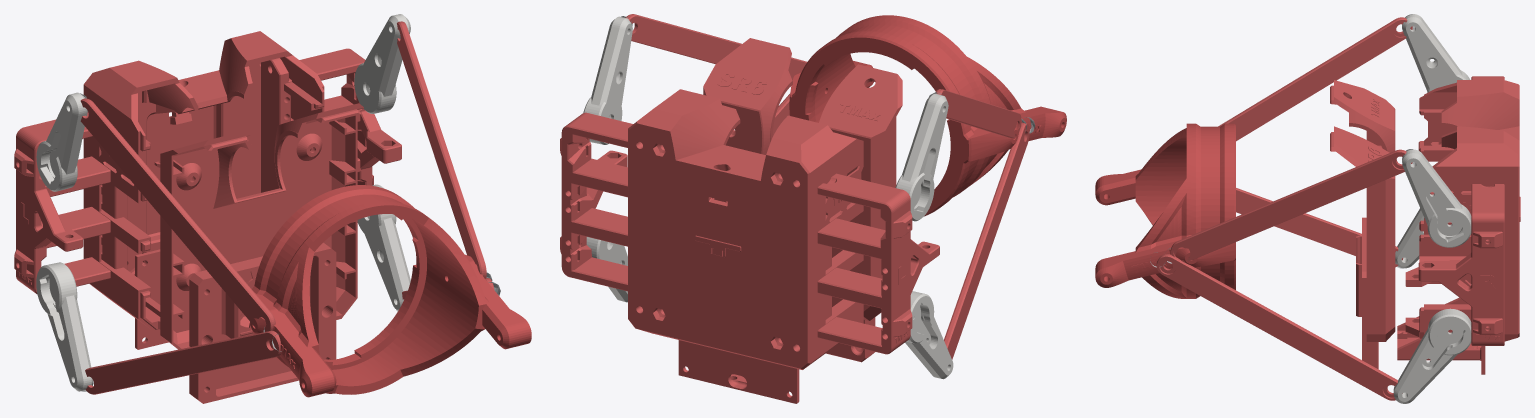
Rendered from ORS6_native_main.glb.
The picture shows the model from 3 angles, left to right: view 1: azimuth 30°, elevation 25°; view 2: azimuth 150°, elevation 25°; view 3: azimuth 270°, elevation 25°; orthographic projection. The views are drawn at different scales.
Visible parts, largest first — view 1: Receiver, Base, Lid, L_Frame, Shield, R_Frame, Rod_LowerLeft, Rod_UpperLeft, Arm_UpperLeft, Rod_LowerRight, Arm_LowerLeft, Arm_LowerRight (+2 smaller); view 2: Base, Receiver, Lid, L_Frame, R_Frame, Tray, Rod_UpperLeft, Arm_LowerLeft, Rod_LowerRight, Arm_LowerRight, Arm_UpperLeft, Rod_LowerLeft (+2 smaller); view 3: Receiver, Base, Lid, R_Frame, Rod_UpperRight, Rod_LowerRight, Rod_LowerLeft, Arm_UpperRight, Arm_LowerRight, Arm_LowerLeft, Rod_UpperLeft, Shield (+2 smaller).
Part boxes in pixels (bbox=[...]): Receiver: bbox=[250, 185, 531, 397]; Base: bbox=[83, 31, 324, 331]; Lid: bbox=[160, 103, 363, 349]; L_Frame: bbox=[14, 112, 127, 294]; Shield: bbox=[189, 242, 336, 403]; R_Frame: bbox=[261, 48, 401, 192]; Rod_LowerLeft: bbox=[80, 98, 275, 331]; Rod_UpperLeft: bbox=[85, 330, 280, 394]; Arm_UpperLeft: bbox=[36, 262, 93, 391]; Rod_LowerRight: bbox=[397, 21, 486, 278]; Arm_LowerLeft: bbox=[36, 92, 87, 191]; Arm_LowerRight: bbox=[354, 14, 410, 113]; Base: bbox=[628, 89, 863, 369]; Receiver: bbox=[789, 15, 1066, 216]; Lid: bbox=[703, 38, 902, 320]; L_Frame: bbox=[817, 173, 939, 354]; R_Frame: bbox=[560, 112, 633, 291]; Tray: bbox=[678, 340, 799, 403]; Rod_UpperLeft: bbox=[944, 122, 1029, 359]; Arm_LowerLeft: bbox=[895, 93, 948, 221]; Rod_LowerRight: bbox=[625, 14, 806, 79]; Arm_LowerRight: bbox=[583, 16, 632, 144]; Arm_UpperLeft: bbox=[905, 291, 953, 379]; Rod_LowerLeft: bbox=[936, 89, 1021, 138]; Receiver: bbox=[1095, 123, 1235, 298]; Base: bbox=[1405, 80, 1519, 341]; Lid: bbox=[1330, 80, 1395, 341]; R_Frame: bbox=[1418, 184, 1504, 345]; Rod_UpperRight: bbox=[1156, 254, 1402, 400]; Rod_LowerRight: bbox=[1170, 149, 1412, 262]; Rod_LowerLeft: bbox=[1218, 17, 1412, 141]; Arm_UpperRight: bbox=[1393, 308, 1471, 403]; Arm_LowerRight: bbox=[1402, 149, 1471, 247]; Arm_LowerLeft: bbox=[1402, 14, 1470, 92]; Rod_UpperLeft: bbox=[1236, 188, 1403, 267]; Shield: bbox=[1356, 217, 1378, 369].
Size of the model in its own units: 220 by 186 by 267.
